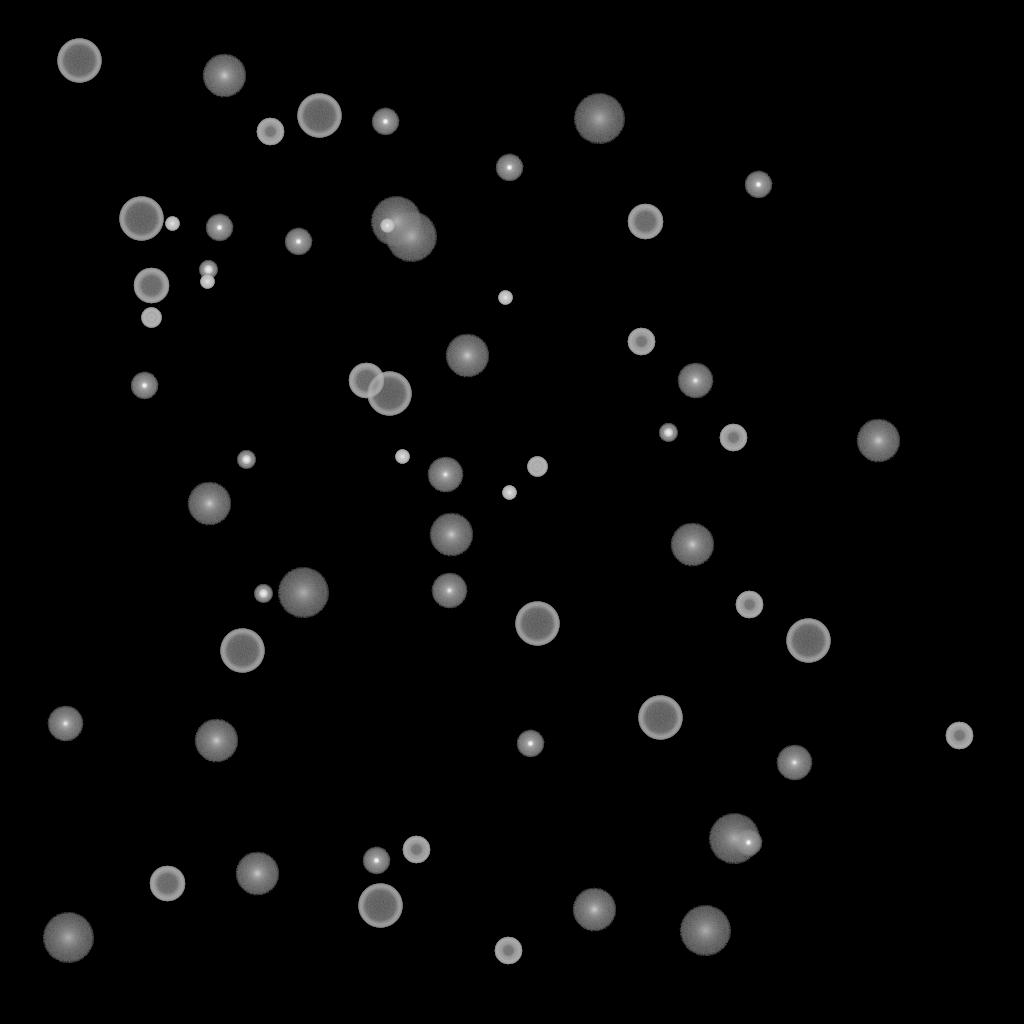depth:-10: (130, 372, 158, 400), (516, 730, 544, 758), (362, 847, 390, 875), (205, 214, 233, 242), (284, 228, 312, 256), (734, 829, 762, 857), (495, 154, 523, 182), (371, 108, 399, 136), (744, 171, 772, 199)
depth:-20: (659, 424, 677, 442), (254, 585, 272, 603), (237, 451, 255, 469), (199, 261, 217, 279)
depth:-30: (165, 217, 179, 231), (395, 450, 409, 464), (380, 219, 394, 233), (502, 486, 516, 500), (200, 275, 214, 289), (498, 291, 512, 305)
depth:-40: (527, 457, 547, 477), (141, 308, 161, 328)
depth:-50: (627, 328, 655, 356), (735, 591, 763, 619), (494, 937, 522, 965), (719, 424, 747, 452), (945, 722, 973, 750), (402, 836, 430, 864), (256, 118, 284, 146)
depth:-60: (133, 268, 169, 304), (149, 866, 185, 902), (627, 204, 663, 240), (348, 363, 384, 399)
depth:-70: (358, 884, 402, 928), (515, 602, 559, 646), (367, 372, 411, 416), (297, 94, 341, 138), (119, 197, 163, 241), (786, 619, 830, 663), (638, 696, 682, 740), (220, 629, 264, 673), (57, 39, 101, 83)
depth:0: (427, 457, 463, 493), (431, 573, 467, 609), (776, 745, 812, 781), (47, 706, 83, 742), (677, 363, 713, 399)
depth:10: (856, 419, 900, 463), (235, 852, 279, 896), (202, 54, 246, 98), (572, 888, 616, 932), (194, 719, 238, 763), (187, 482, 231, 526), (445, 334, 489, 378), (670, 523, 714, 567), (429, 513, 473, 557)
depth:20: (277, 568, 329, 618), (370, 197, 422, 247), (708, 814, 760, 864), (42, 913, 94, 963), (573, 94, 625, 144), (679, 906, 731, 956), (385, 212, 437, 262)
